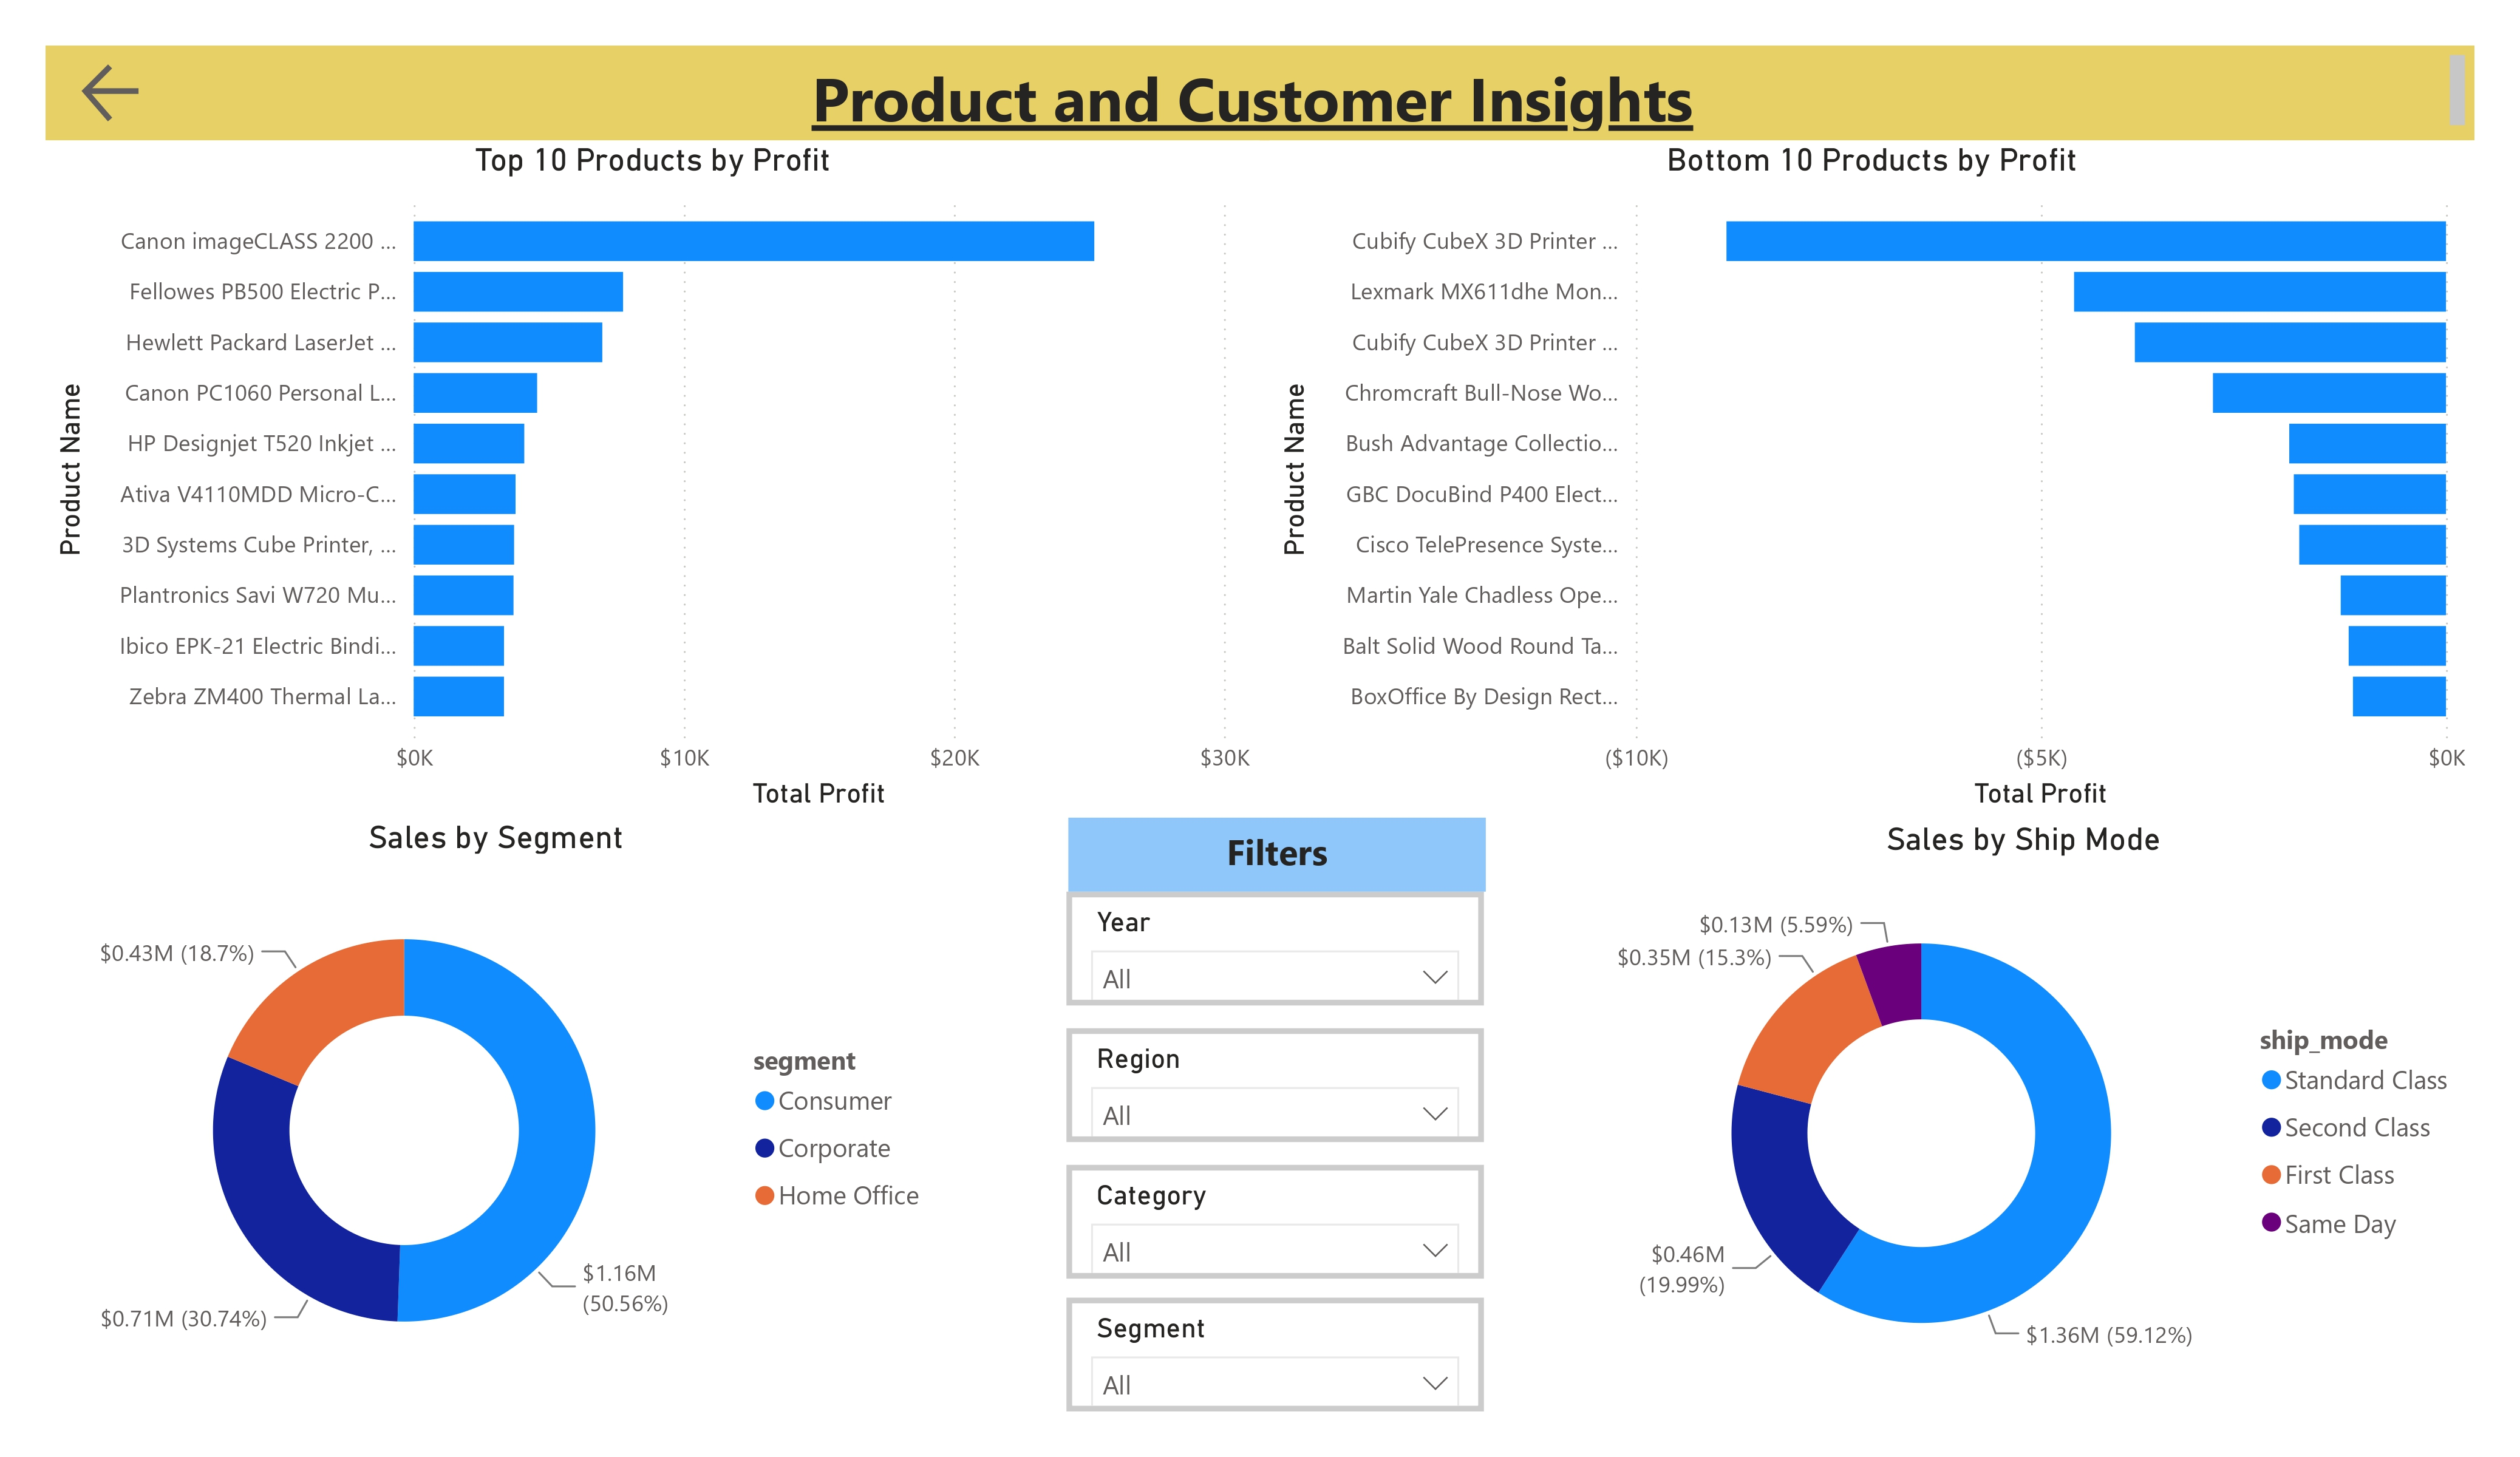

The page's visual inventory and layout, read from the dashboard file:
{"tool":"powerbi","page":{"name":"Product and Customer Insights","canvas":[1280,720],"ordinal":1},"visuals":[{"type":"textbox","box":[0,0,1280,50],"z":0},{"type":"clusteredBarChart","title":"Top 10 Products by Profit","fields":{"Category":["orders.product_name"],"Y":["Measures_table.Total Profit"]},"box":[0,50,640,356.7],"z":1000},{"type":"clusteredBarChart","title":"Bottom 10 Products by Profit","fields":{"Category":["orders.product_name"],"Y":["Measures_table.Total Profit"]},"box":[645,50,635,356.7],"z":2000},{"type":"donutChart","title":"Sales by Segment","fields":{"Category":["orders.segment"],"Y":["Measures_table.Total Sales"]},"box":[0,406.7,475,311],"z":3000},{"type":"donutChart","title":"Sales by Ship Mode","fields":{"Category":["orders.ship_mode"],"Y":["Measures_table.Total Sales"]},"box":[805,408.3,475,311.7],"z":4000},{"type":"actionButton","box":[15,5,100,40],"z":5000},{"type":"slicer","title":"Filters","fields":{"Values":["Calendar.Year"]},"box":[538.3,445.8,220,60],"z":6000},{"type":"slicer","title":"Filters","fields":{"Values":["orders.region"]},"box":[538.3,517.5,220,60],"z":7000},{"type":"slicer","title":"Filters","fields":{"Values":["orders.segment"]},"box":[538.3,660,220,60],"z":8000},{"type":"slicer","title":"Filters","fields":{"Values":["orders.category"]},"box":[538.3,590,220,60],"z":9000},{"type":"textbox","box":[538.9,406.7,220,38.9],"z":10000}]}

Visuals, with their boxes on the page's 1280x720 design canvas (x1, y1, x2, y2). These are canvas units, not pixel positions in the 2520x1457 screenshot, which may show the page scaled, cropped or inside an application window:
textbox: crop(0, 0, 1280, 50)
"Top 10 Products by Profit" clusteredBarChart: crop(0, 50, 640, 407)
"Bottom 10 Products by Profit" clusteredBarChart: crop(645, 50, 1280, 407)
"Sales by Segment" donutChart: crop(0, 407, 475, 718)
"Sales by Ship Mode" donutChart: crop(805, 408, 1280, 720)
actionButton: crop(15, 5, 115, 45)
"Filters" slicer: crop(538, 446, 758, 506)
"Filters" slicer: crop(538, 518, 758, 578)
"Filters" slicer: crop(538, 660, 758, 720)
"Filters" slicer: crop(538, 590, 758, 650)
textbox: crop(539, 407, 759, 446)
